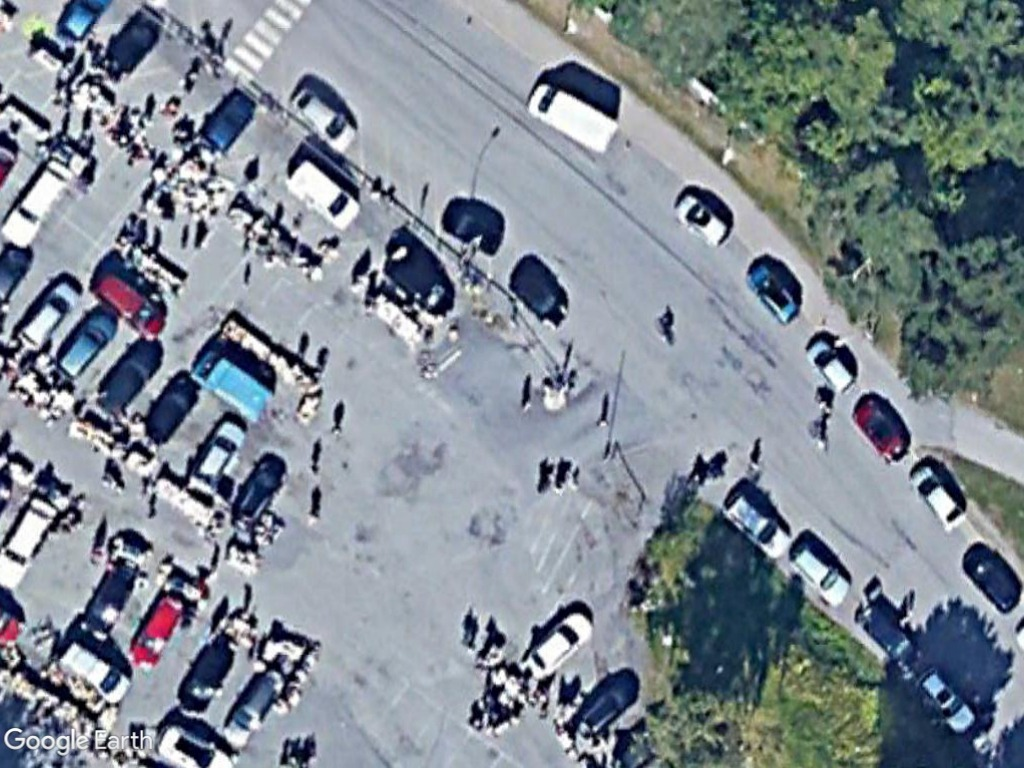car: (90, 329, 169, 414), (90, 262, 172, 343), (0, 159, 70, 253), (721, 484, 797, 570), (54, 634, 136, 713), (516, 607, 600, 683), (12, 276, 86, 359), (910, 657, 982, 742), (123, 586, 193, 673), (216, 670, 289, 753), (565, 666, 643, 743), (286, 77, 361, 157), (172, 634, 240, 722), (785, 535, 857, 613), (0, 498, 63, 587), (226, 452, 294, 533), (846, 385, 913, 467), (54, 305, 124, 382), (666, 177, 737, 252), (186, 409, 250, 485), (907, 455, 968, 534), (136, 366, 202, 438), (740, 257, 808, 325), (797, 330, 861, 398)
van: (523, 73, 623, 160), (186, 342, 276, 424), (281, 153, 364, 233)
